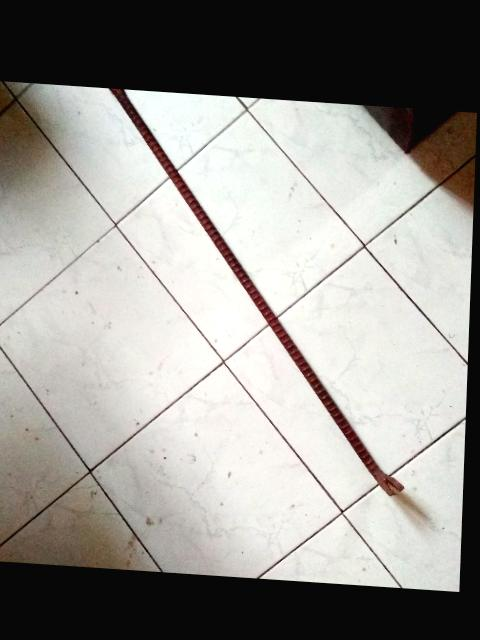crow bar: (103, 86, 410, 487)
